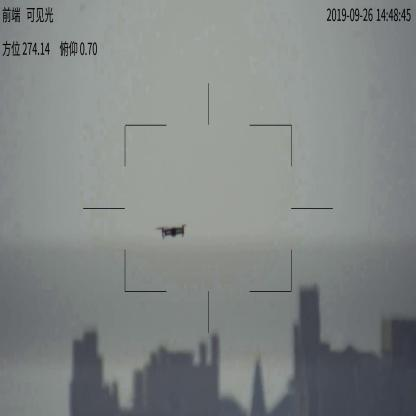uav: (157, 222, 189, 242)
